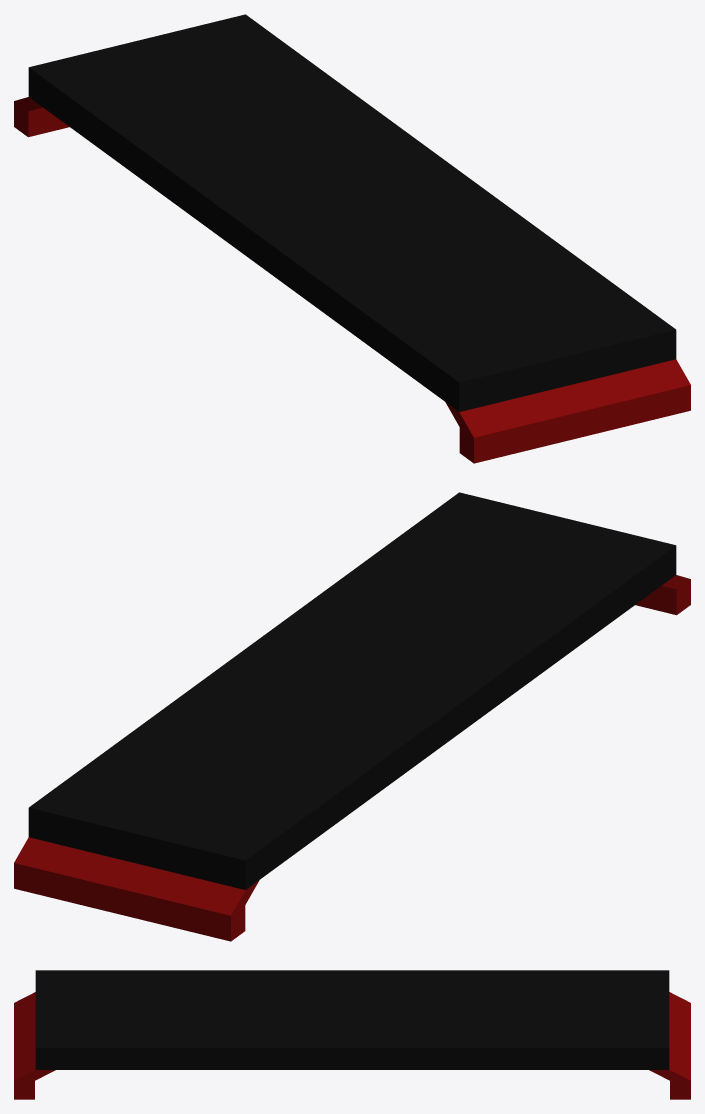
File: AerobicStep.001.fbx
3 views of the same model, one above another, from view 1: azimuth 30°, elevation 25°; view 2: azimuth 150°, elevation 25°; view 3: azimuth 270°, elevation 25° (orthographic). The views are drawn at different scales.
Visible parts, largest first — view 1: AerobicStep.001; view 2: AerobicStep.001; view 3: AerobicStep.001.
Boxes of the visible parts, x1,y1,x2,y2 form: AerobicStep.001: (14, 14, 690, 463); AerobicStep.001: (14, 492, 690, 941); AerobicStep.001: (14, 970, 690, 1099).
Size of the model in its own units: 34.75 by 10.76 by 128.
